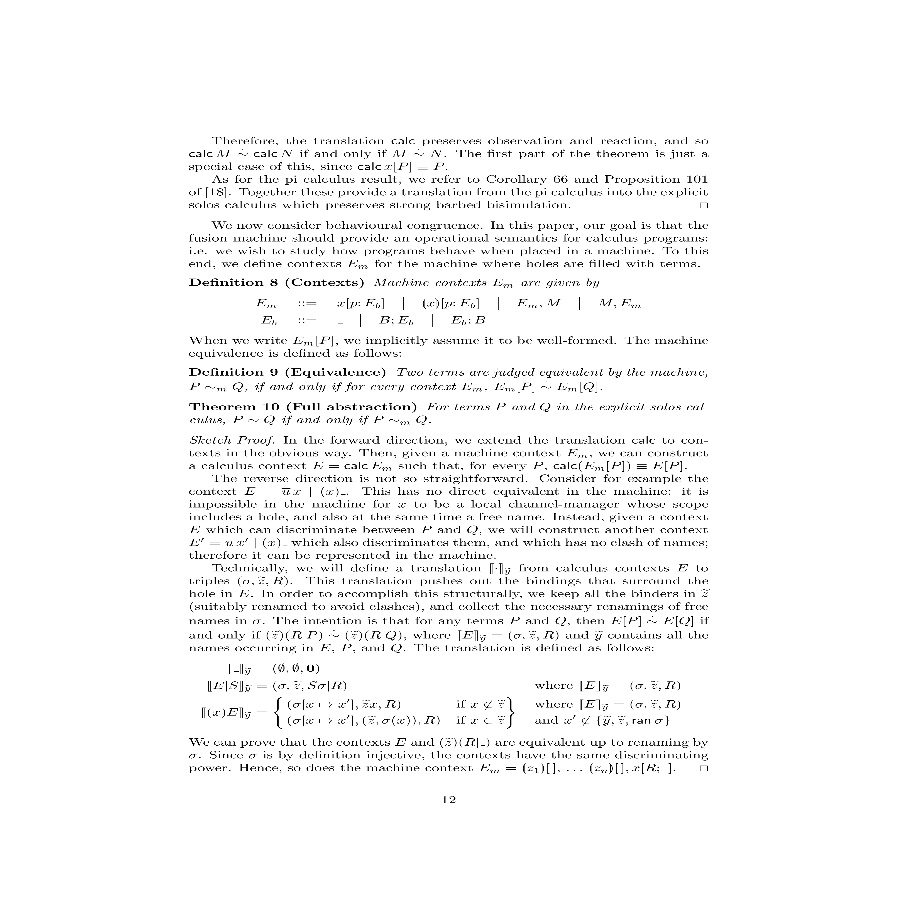eq: (198, 658, 687, 731), (249, 291, 649, 331)
